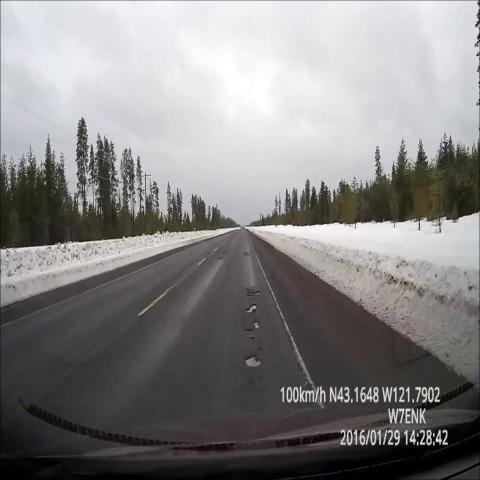pothole: (238, 335, 264, 383), (241, 312, 268, 344), (242, 294, 266, 322), (242, 280, 268, 302), (211, 241, 232, 268), (240, 243, 253, 262)
